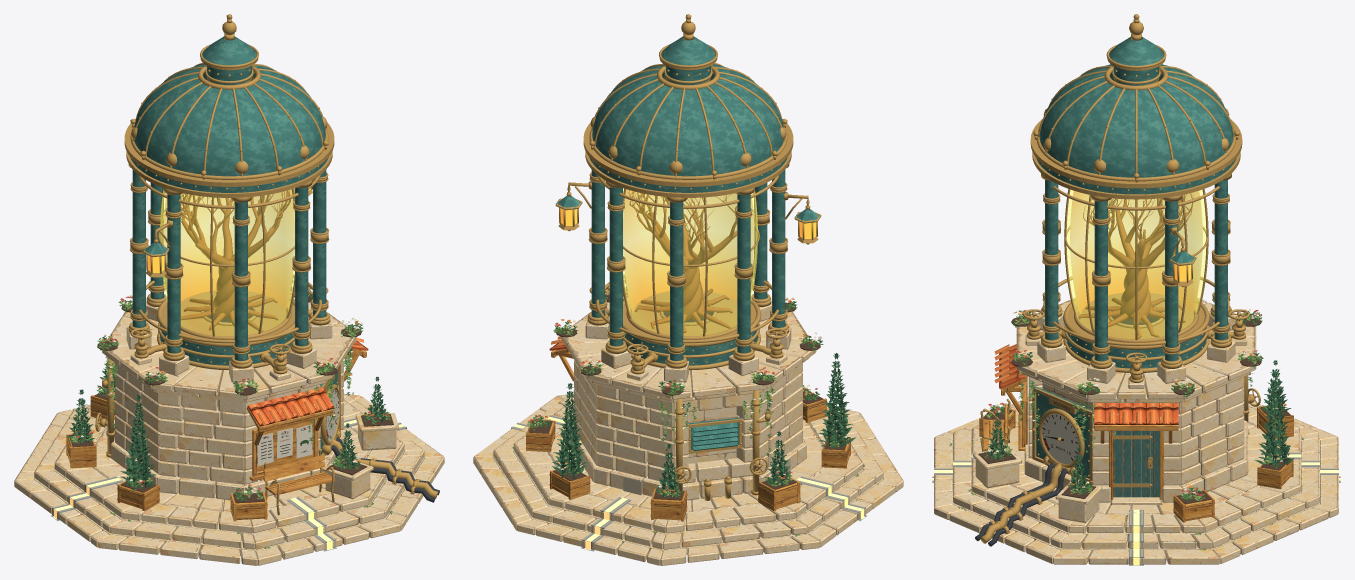
3 views of the same model, side by side, from view 1: azimuth 30°, elevation 25°; view 2: azimuth 150°, elevation 25°; view 3: azimuth 270°, elevation 25° (orthographic).
Visible parts, largest first — view 1: seaside_stone, rootwell_verdigris, rootwell_brass, rootwell_bell_glass, house_paint, root_light, seaside_timber, root, seaside_roof, rootwell_enamel, rootwell_conduit_frame_grid_bed, rootwell_conduit_glass (+1 smaller); view 2: seaside_stone, rootwell_verdigris, rootwell_brass, rootwell_bell_glass, house_paint, root_light, seaside_timber, root, rootwell_conduit_frame_grid_bronze, rootwell_conduit_frame_grid_bed, rootwell_conduit_glass; view 3: seaside_stone, rootwell_verdigris, rootwell_brass, rootwell_bell_glass, house_paint, root_light, seaside_timber, root, maintenance_door, seaside_roof, rootwell_enamel, rootwell_conduit_frame_grid_bed (+1 smaller).
Boxes of the visible parts, x1,y1,x2,y2 form: seaside_stone: (14, 297, 444, 565); rootwell_verdigris: (130, 36, 337, 454); rootwell_brass: (100, 14, 438, 515); rootwell_bell_glass: (160, 188, 294, 335); house_paint: (66, 286, 439, 548); root_light: (163, 189, 294, 314); seaside_timber: (66, 349, 366, 521); root: (180, 190, 290, 332); seaside_roof: (247, 337, 368, 426); rootwell_enamel: (257, 389, 338, 465); rootwell_conduit_frame_grid_bed: (51, 418, 406, 551); rootwell_conduit_glass: (53, 420, 404, 549); seaside_stone: (473, 297, 903, 565); rootwell_verdigris: (557, 36, 820, 450); rootwell_brass: (555, 14, 821, 500); rootwell_bell_glass: (623, 188, 757, 335); house_paint: (512, 289, 864, 536); root_light: (623, 189, 754, 314); seaside_timber: (526, 348, 850, 521); root: (628, 190, 737, 333); rootwell_conduit_frame_grid_bronze: (511, 415, 866, 550); rootwell_conduit_frame_grid_bed: (511, 415, 866, 551); rootwell_conduit_glass: (513, 416, 864, 549); seaside_stone: (934, 297, 1338, 564); rootwell_verdigris: (1036, 37, 1236, 478); rootwell_brass: (980, 14, 1254, 543); rootwell_bell_glass: (1066, 190, 1206, 338); house_paint: (949, 309, 1303, 550); root_light: (1070, 191, 1202, 317); seaside_timber: (979, 375, 1293, 522); root: (1078, 193, 1193, 338); maintenance_door: (1113, 431, 1159, 497); seaside_roof: (994, 344, 1178, 424); rootwell_enamel: (1042, 414, 1078, 463); rootwell_conduit_frame_grid_bed: (932, 453, 1340, 565).
Bounding box in the file's own units: 7.56 × 9.52 × 7.56.
Materials: 17 (7 with a texture image).
